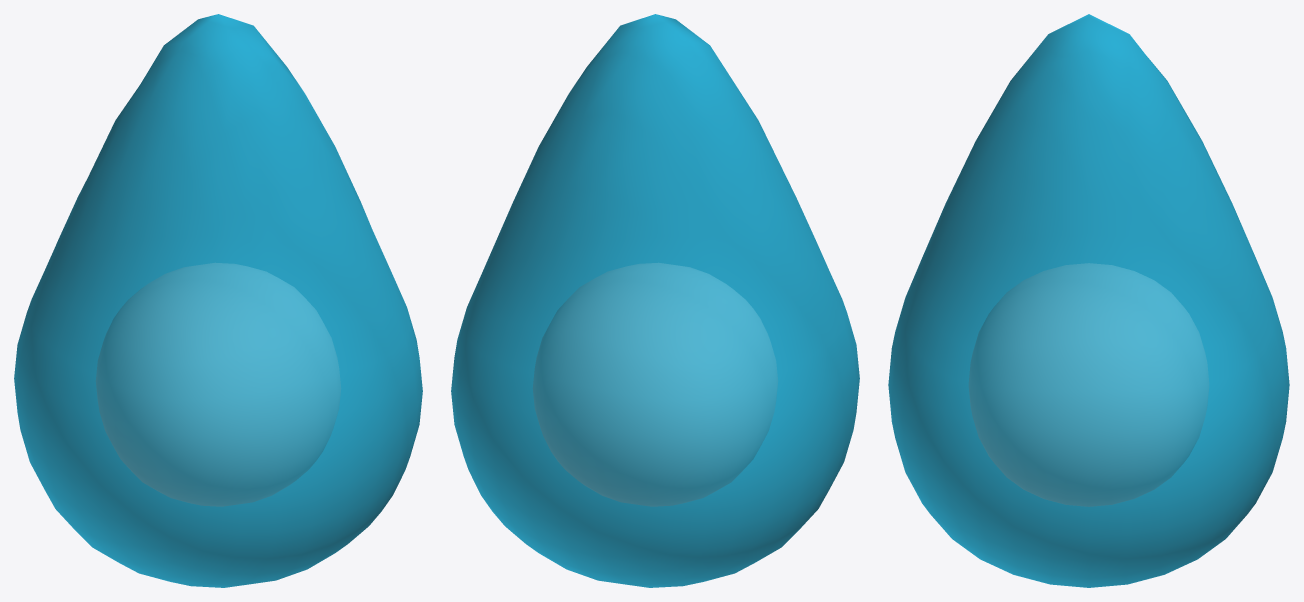
The model's file is Essence1.fbx.
3 renders of one model, left to right at view 1: azimuth 30°, elevation 25°; view 2: azimuth 150°, elevation 25°; view 3: azimuth 270°, elevation 25°, orthographic.
Parts seen in each view (by area): view 1: Essence; view 2: Essence; view 3: Essence.
Boxes of the visible parts, left/top/right/bottom form: Essence: left=14, top=14, right=422, bottom=587; Essence: left=451, top=14, right=859, bottom=587; Essence: left=888, top=14, right=1289, bottom=587.
Bounding box in the file's own units: 58.23 × 88.52 × 58.23.
